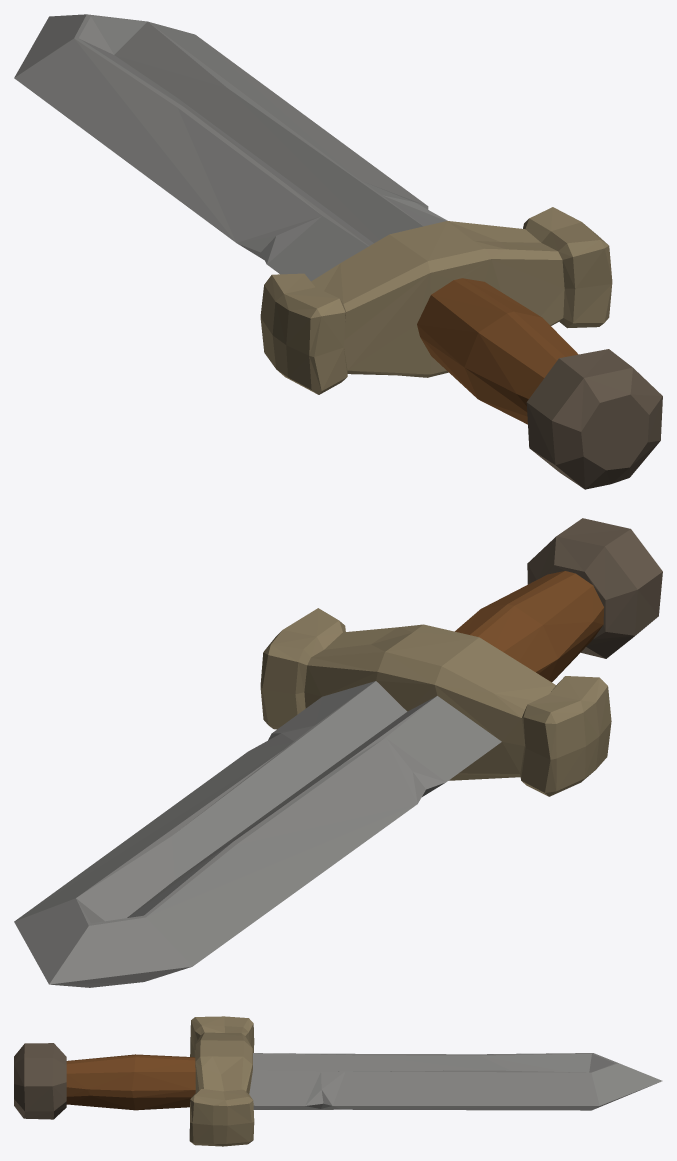
File: MedievalBroadsword.fbx
3 renders of one model, top to bottom at view 1: azimuth 30°, elevation 25°; view 2: azimuth 150°, elevation 25°; view 3: azimuth 270°, elevation 25°, orthographic. The views are drawn at different scales.
Parts seen in each view (by area): view 1: MedievalBroadsword; view 2: MedievalBroadsword; view 3: MedievalBroadsword.
Part boxes in pixels (x1,y1,x2,y2): MedievalBroadsword: (14,14,662,489); MedievalBroadsword: (14,518,662,987); MedievalBroadsword: (14,1016,662,1146).
Size of the model in its own units: 0.3981 by 1.25 by 0.1413.
